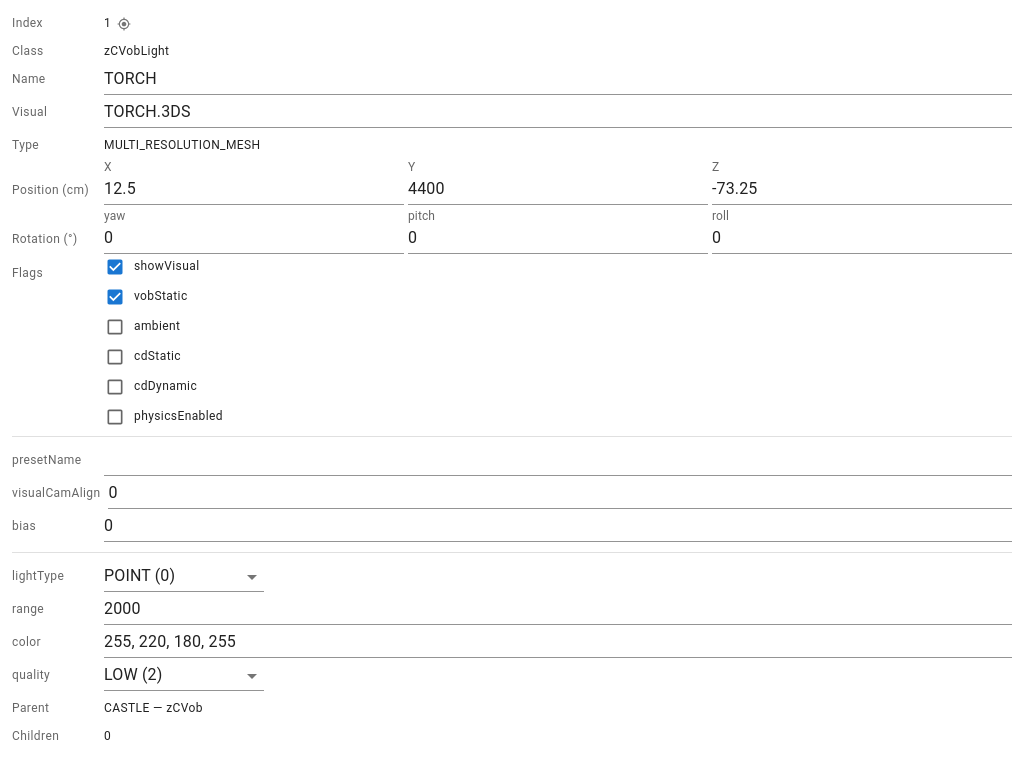
Test: WorldPropertyGrid, class fields › says why a refused value was refused, rather than only snapping back
Replace the text in the field with test id "world-prop-class-range-input" with "bright": [558, 610] box [104,596,1012,625]
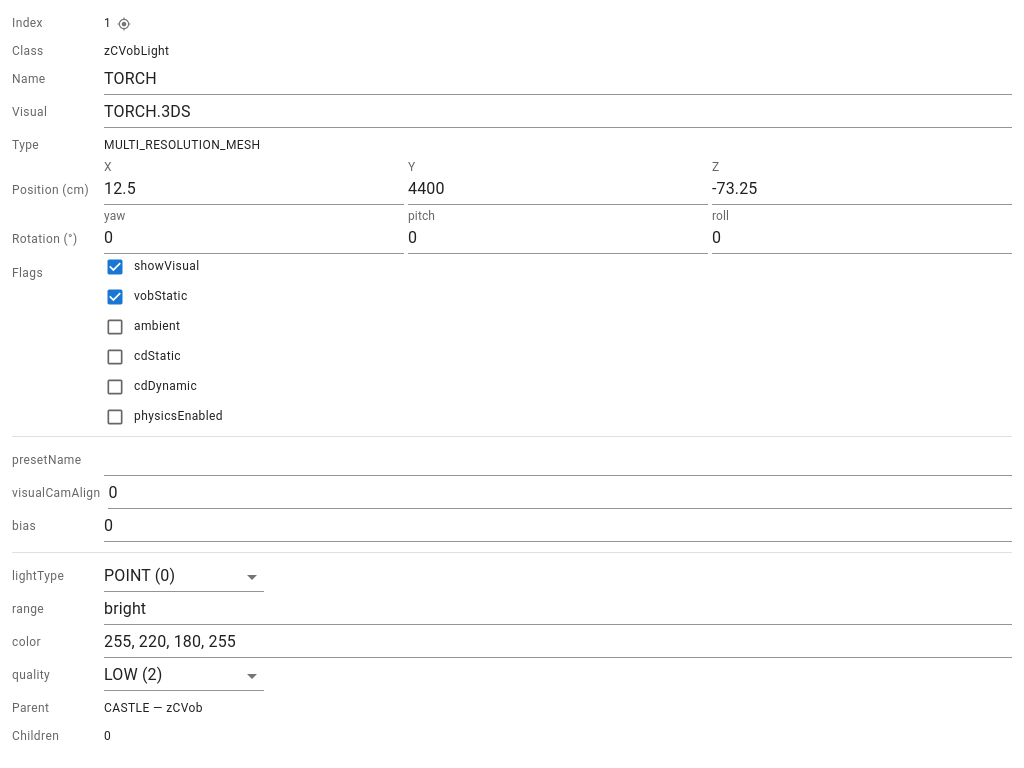
Leave the field with test id "world-prop-class-range-input", box [104,596,1012,625]
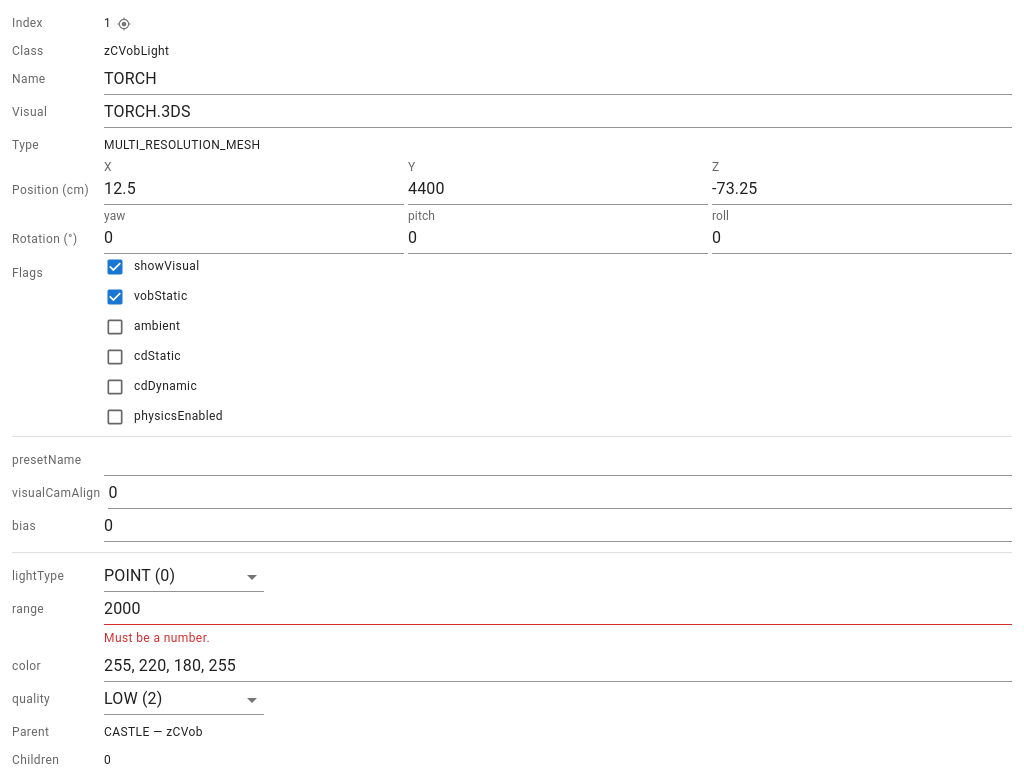
Result: the text "Must be a number." is shown at [104,631,210,645]
Focus the field with test id "world-prop-class-range-input": [558, 610] box [104,596,1012,625]
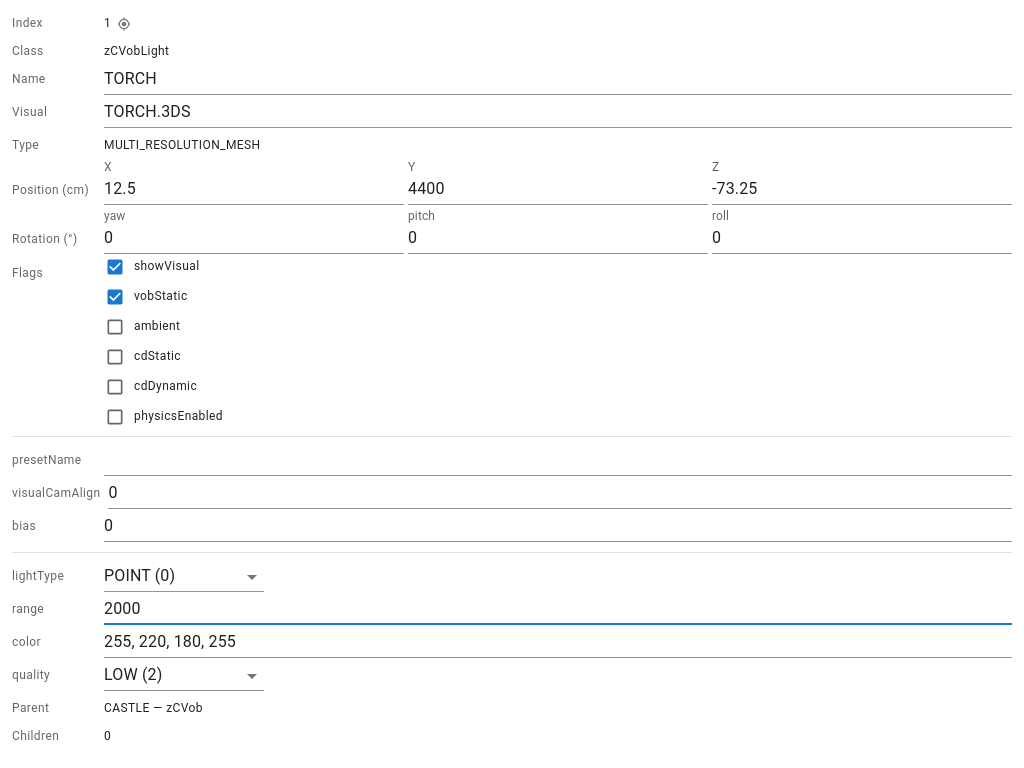
Result: the text "Must be a number" is gone
